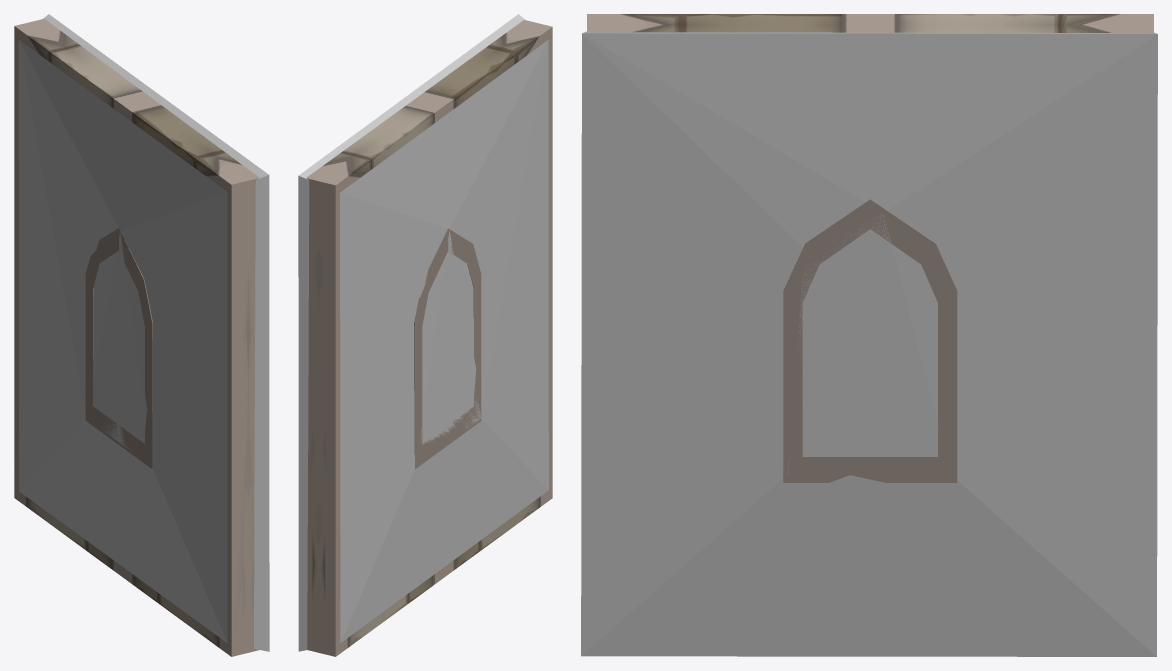
File: SM_Bld_Wall_Window_01.fbx
The picture shows the model from 3 angles, left to right: view 1: azimuth 30°, elevation 25°; view 2: azimuth 150°, elevation 25°; view 3: azimuth 270°, elevation 25°; orthographic projection. The views are drawn at different scales.
Parts seen in each view (by area): view 1: SM_Bld_Wall_Window_01_ConvexHulls, SM_Bld_Wall_Window_01; view 2: SM_Bld_Wall_Window_01_ConvexHulls, SM_Bld_Wall_Window_01; view 3: SM_Bld_Wall_Window_01_ConvexHulls, SM_Bld_Wall_Window_01.
Part boxes in pixels (x1=…): SM_Bld_Wall_Window_01_ConvexHulls: x1=18, y1=14, x2=269, y2=651; SM_Bld_Wall_Window_01: x1=14, y1=18, x2=259, y2=656; SM_Bld_Wall_Window_01_ConvexHulls: x1=298, y1=14, x2=548, y2=651; SM_Bld_Wall_Window_01: x1=306, y1=20, x2=552, y2=656; SM_Bld_Wall_Window_01_ConvexHulls: x1=581, y1=31, x2=1157, y2=656; SM_Bld_Wall_Window_01: x1=587, y1=14, x2=1153, y2=482.
Bounding box in the file's own units: 30.61 × 254 × 303.
3 materials, 2 textured.
